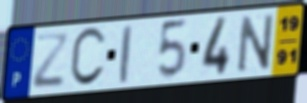4: (200, 14, 233, 78)
5: (155, 16, 192, 83)
C: (67, 25, 108, 90)
I: (118, 23, 134, 86)
N: (236, 11, 276, 76)
Z: (30, 32, 71, 91)
